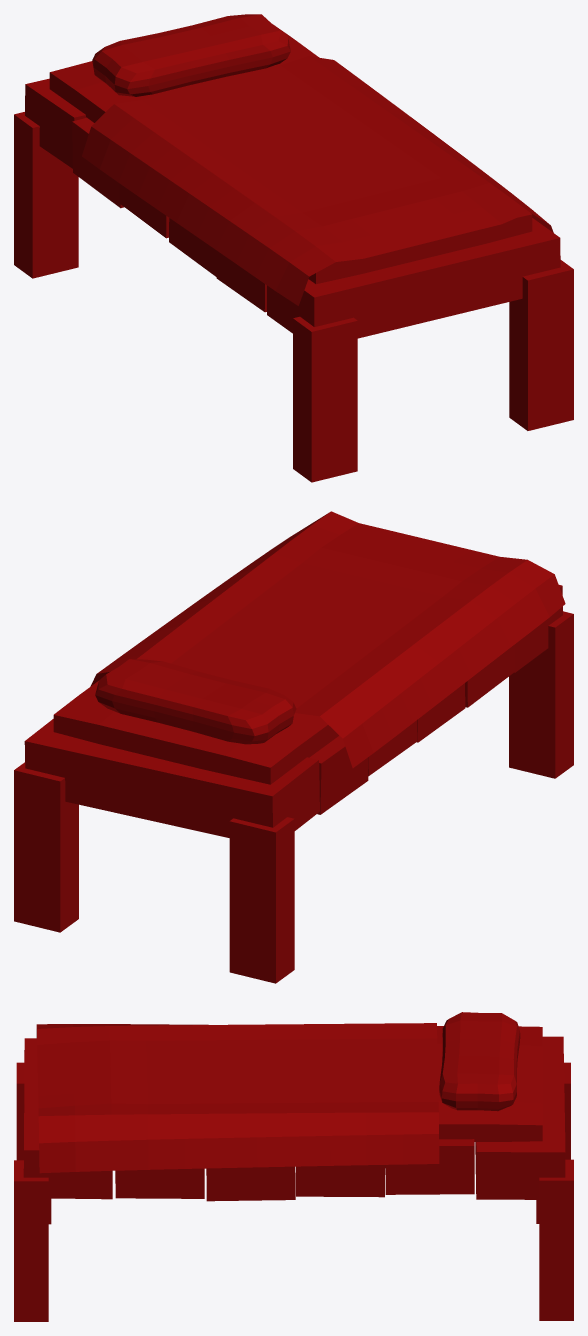
File: chuang_2.fbx
3 renders of one model, top to bottom at view 1: azimuth 30°, elevation 25°; view 2: azimuth 150°, elevation 25°; view 3: azimuth 270°, elevation 25°, orthographic. The views are drawn at different scales.
Parts seen in each view (by area): view 1: 平面.002; view 2: 平面.002; view 3: 平面.002.
Part boxes in pixels (x1,y1,x2,y2): 平面.002: (14, 14, 573, 482); 平面.002: (14, 511, 573, 983); 平面.002: (14, 1012, 573, 1321).
Size of the model in its own units: 55.23 by 44.61 by 106.
